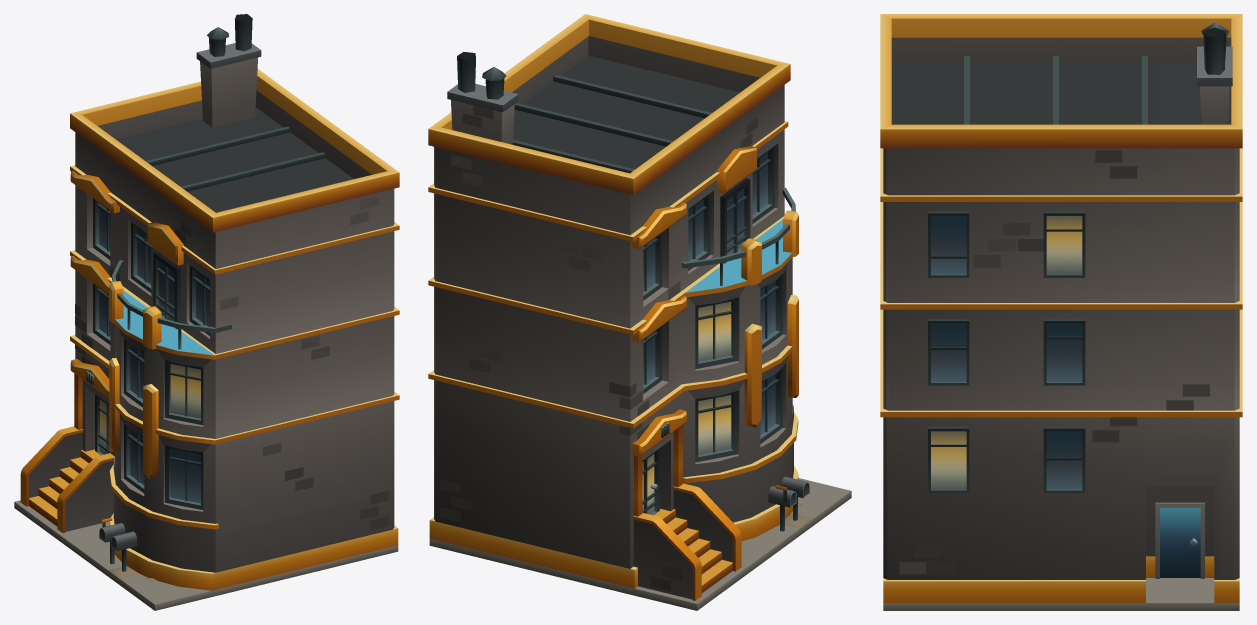
File: Building_4C.fbx
3 renders of one model, left to right at view 1: azimuth 30°, elevation 25°; view 2: azimuth 150°, elevation 25°; view 3: azimuth 270°, elevation 25°, orthographic. The views are drawn at different scales.
Parts seen in each view (by area): view 1: Building_4C, Window_Lights_4C; view 2: Building_4C, Window_Lights_4C; view 3: Building_4C, Window_Lights_4C.
Part boxes in pixels (bbox=[...]): Building_4C: bbox=[14, 14, 399, 610]; Window_Lights_4C: bbox=[100, 364, 200, 454]; Building_4C: bbox=[428, 14, 851, 610]; Window_Lights_4C: bbox=[642, 301, 731, 514]; Building_4C: bbox=[880, 14, 1242, 610]; Window_Lights_4C: bbox=[931, 216, 1082, 489].
Bounding box in the file's own units: 1205 × 2093 × 1220.
